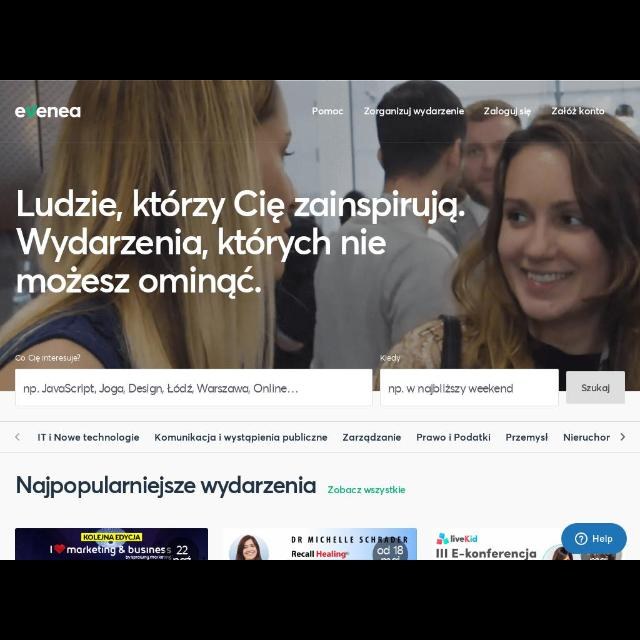backgroundimage: (1, 80, 640, 390)
button: (562, 522, 628, 554)
icon: (574, 532, 588, 546), (15, 432, 22, 442), (620, 432, 626, 442)
image: (222, 528, 418, 560), (14, 528, 208, 560), (434, 528, 622, 560), (14, 105, 82, 119)
input: (15, 369, 373, 405), (381, 368, 559, 406)
multitab: (297, 92, 619, 128)
text: (14, 188, 464, 300), (16, 476, 316, 500), (22, 384, 300, 396), (154, 432, 328, 443), (388, 382, 514, 396), (36, 433, 140, 443), (363, 107, 465, 117), (326, 484, 406, 496), (416, 433, 492, 442), (15, 353, 81, 363), (342, 433, 402, 443), (483, 106, 531, 118), (552, 106, 604, 116), (563, 433, 611, 443), (507, 433, 549, 443), (312, 106, 344, 116), (582, 384, 610, 394), (592, 534, 614, 544), (380, 354, 400, 364)
textbutton: (567, 372, 625, 404)
